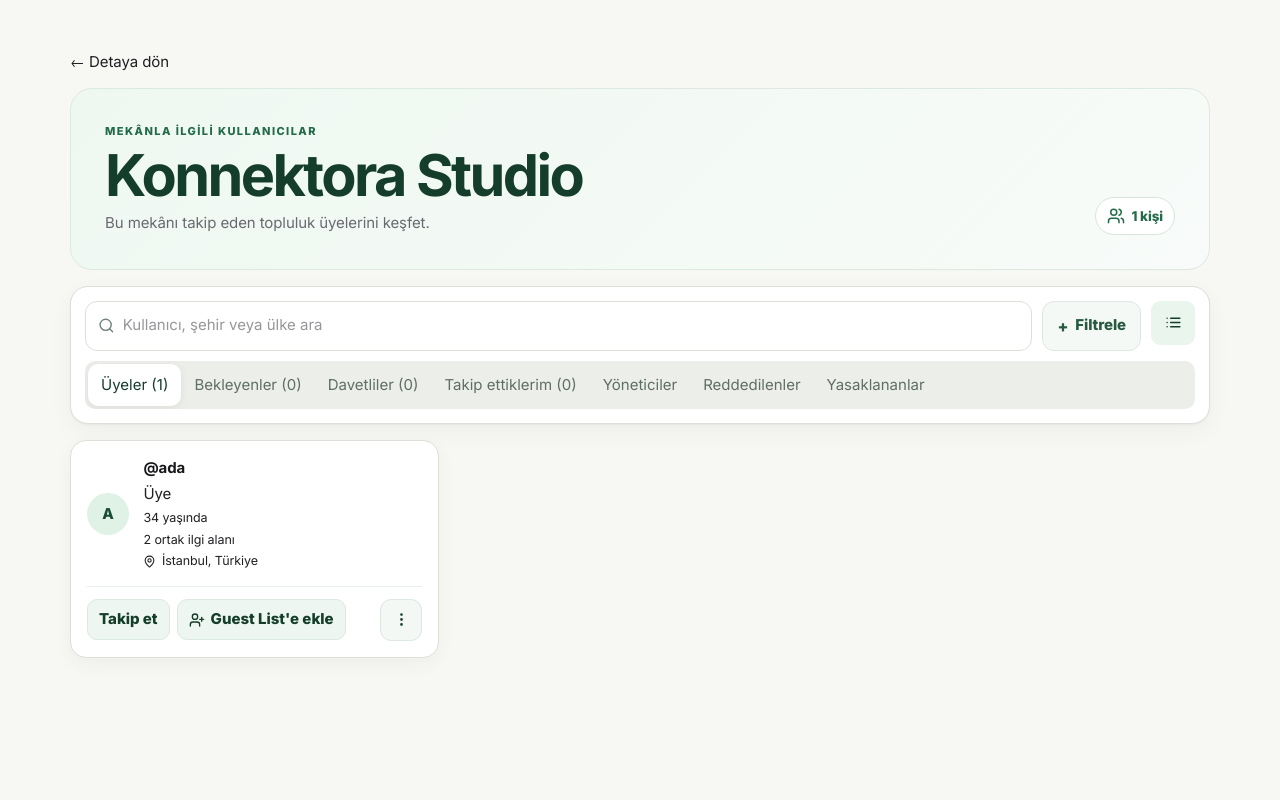
Scenario: topluluk ve ilgili kullanıcı gereksinimleri › mekân kullanıcılarında filtreleri disclosure altında tutar ve yönetim aksiyonlarını yetkiliye gösterir
expect the heading "Konnektora Studio" is shown: met, box [105, 145, 582, 206]
expect the text "2 ortak ilgi alanı" is shown: met, box [143, 532, 235, 546]
Click the heading named "Kullanıcı aksiyonları".
click(401, 620)  # box [380, 599, 422, 641]
(page scrolled)
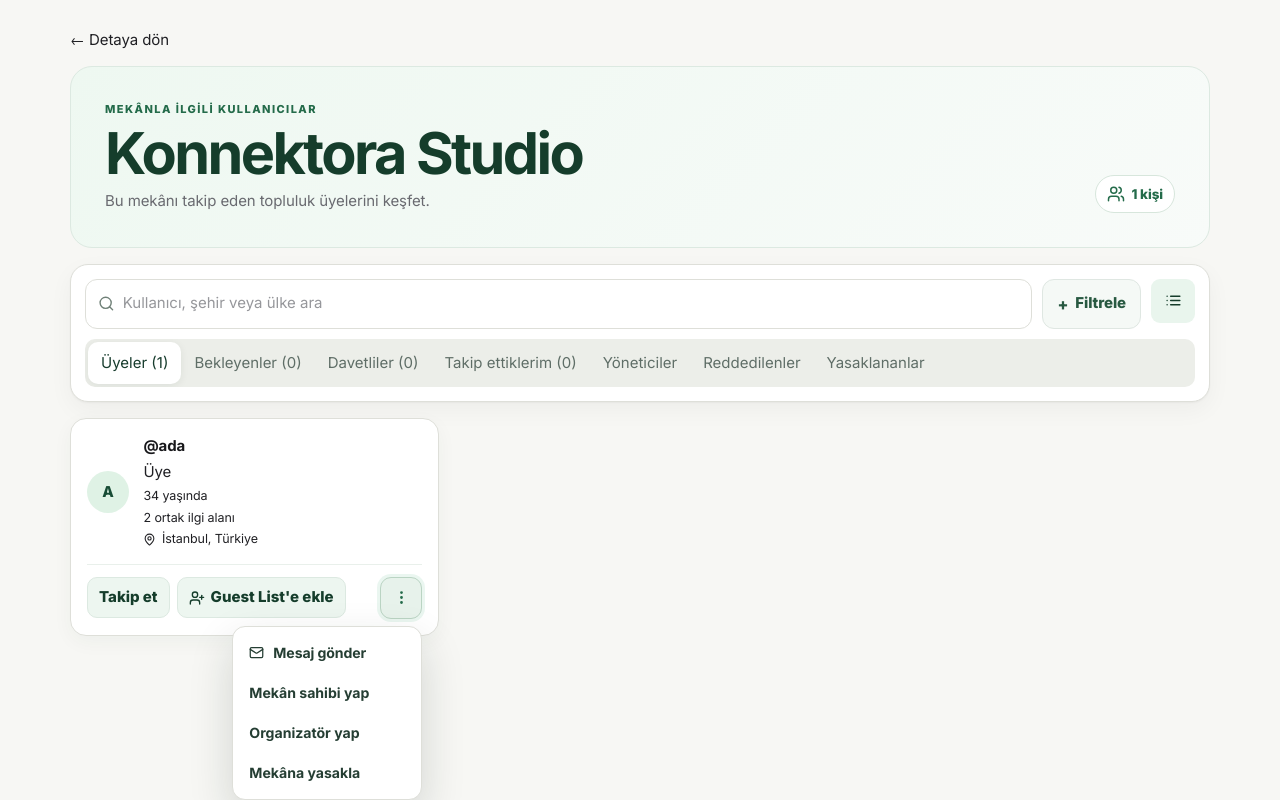
expect the button "Mekân sahibi yap" is shown: met, box [239, 673, 415, 713]
expect the button "Organizatör yap" is shown: met, box [239, 713, 415, 753]
expect the button "Mekâna yasakla" is shown: met, box [239, 753, 415, 793]
